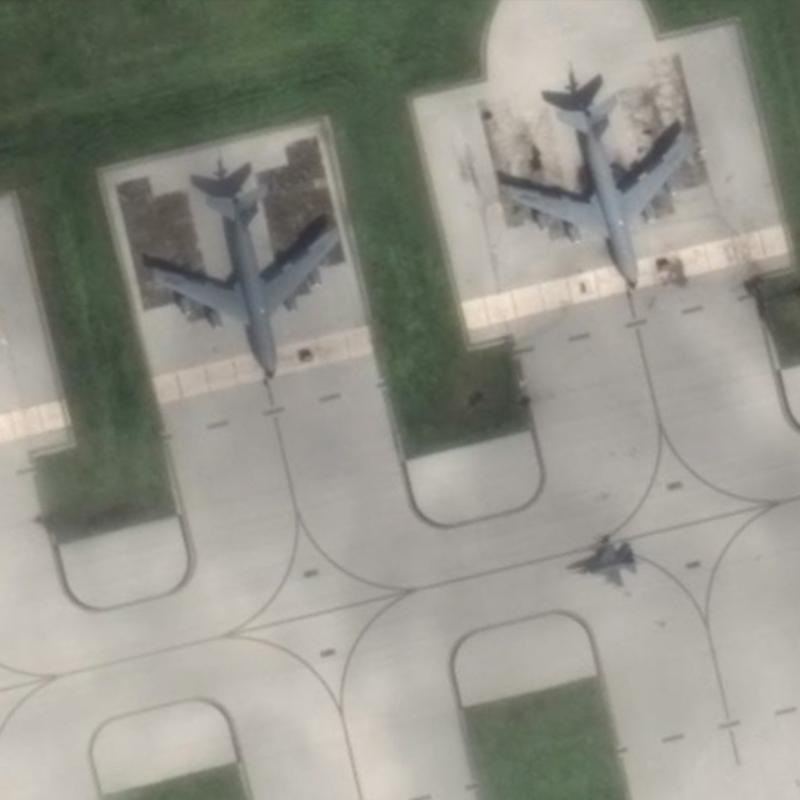A14: (144, 175, 348, 392), (492, 87, 696, 300)
A5: (568, 537, 640, 591)
